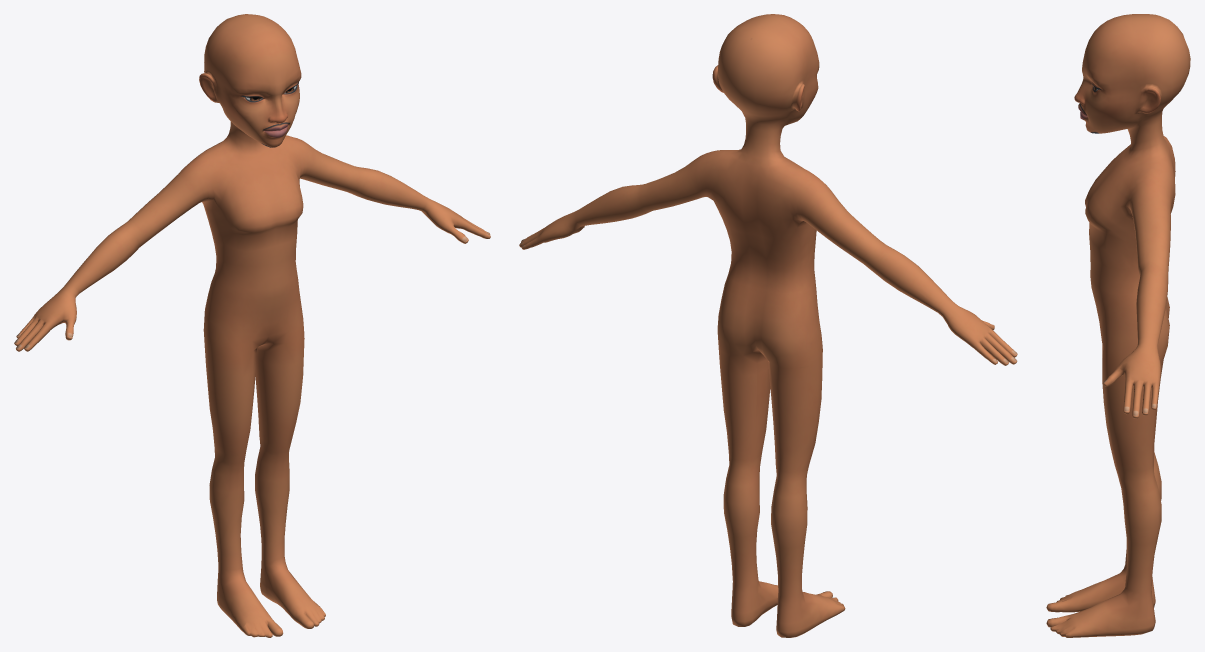
The model's file is frame_0062.glb.
3 renders of one model, left to right at view 1: azimuth 30°, elevation 25°; view 2: azimuth 150°, elevation 25°; view 3: azimuth 270°, elevation 25°, orthographic. The views are drawn at different scales.
Parts seen in each view (by area): view 1: frame_0062_head_geo; view 2: frame_0062_head_geo; view 3: frame_0062_head_geo.
Boxes of the visible parts, <box> form: frame_0062_head_geo: <box>14,14,490,637</box>; frame_0062_head_geo: <box>519,14,1017,637</box>; frame_0062_head_geo: <box>1046,14,1190,637</box>.
Bounding box in the file's own units: 1.28 × 1.5 × 0.3253.
Materials: 3 (3 with a texture image).
